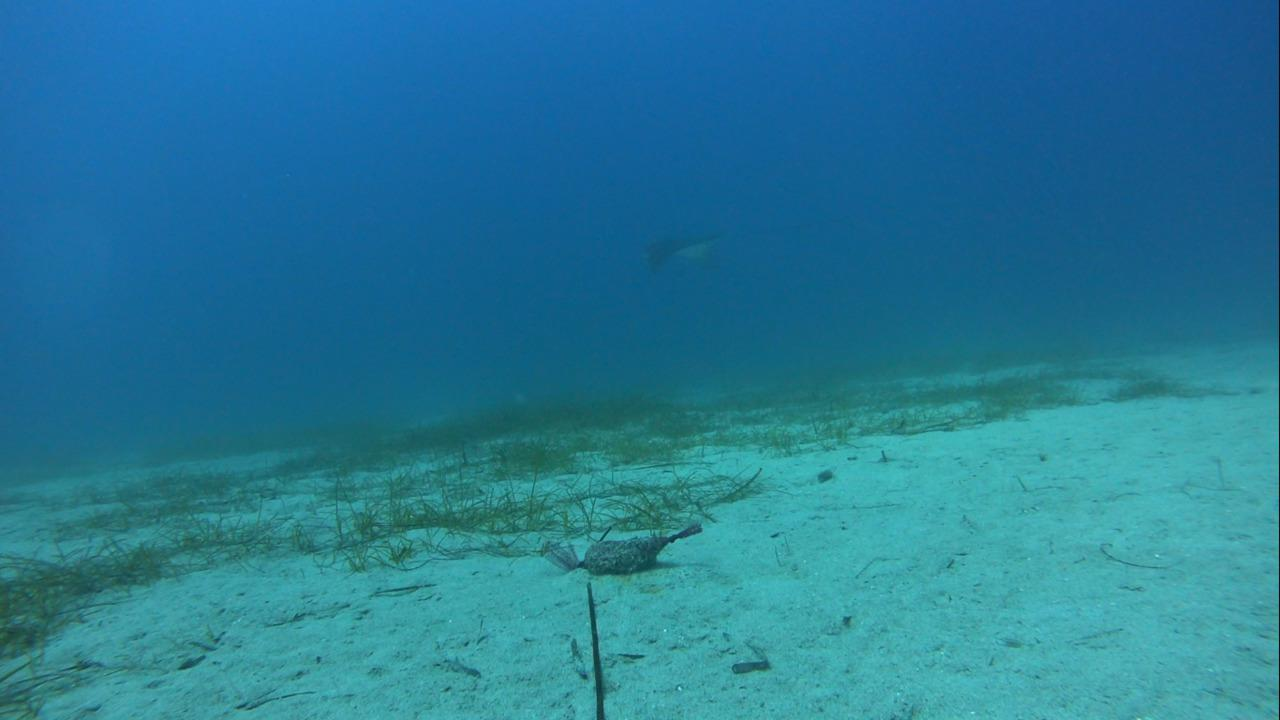myliobatis: (633, 212, 838, 277)
